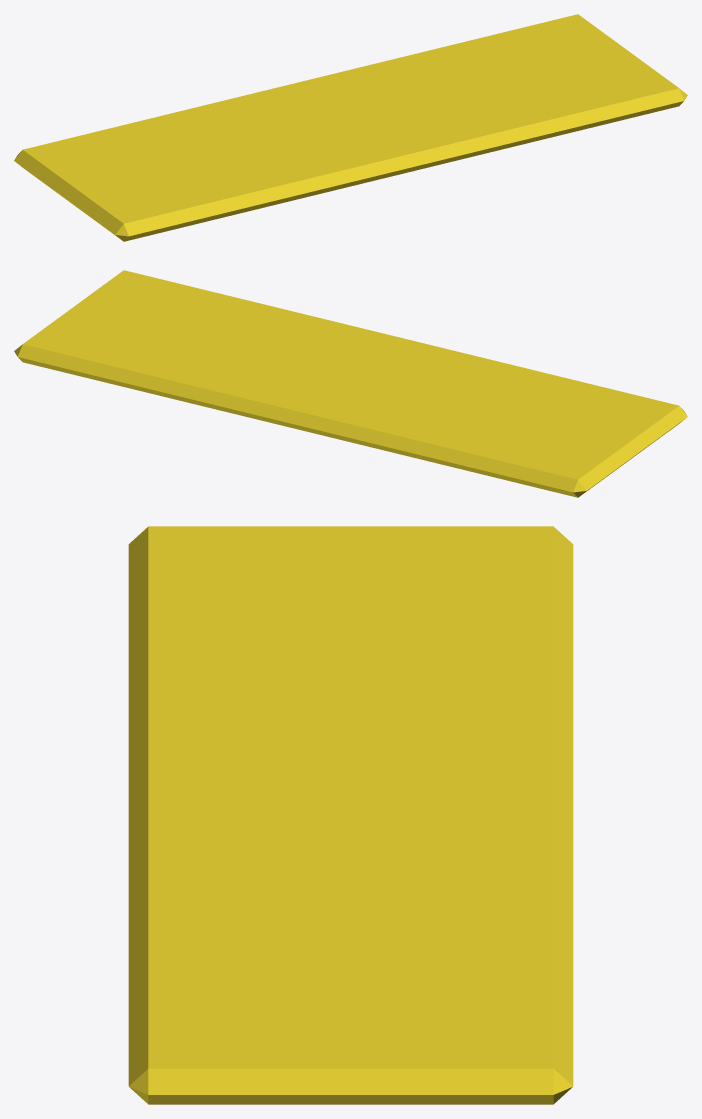
The model's file is BovenstePlatform.fbx.
3 renders of one model, top to bottom at view 1: azimuth 30°, elevation 25°; view 2: azimuth 150°, elevation 25°; view 3: azimuth 270°, elevation 25°, orthographic. The views are drawn at different scales.
Visible parts, largest first — view 1: Cube.002; view 2: Cube.002; view 3: Cube.002.
Boxes of the visible parts, left/top/right/bottom form: Cube.002: left=14, top=14, right=687, bottom=241; Cube.002: left=14, top=270, right=687, bottom=497; Cube.002: left=128, top=526, right=573, bottom=1104.
Bounding box in the file's own units: 302 × 9.1 × 102.
